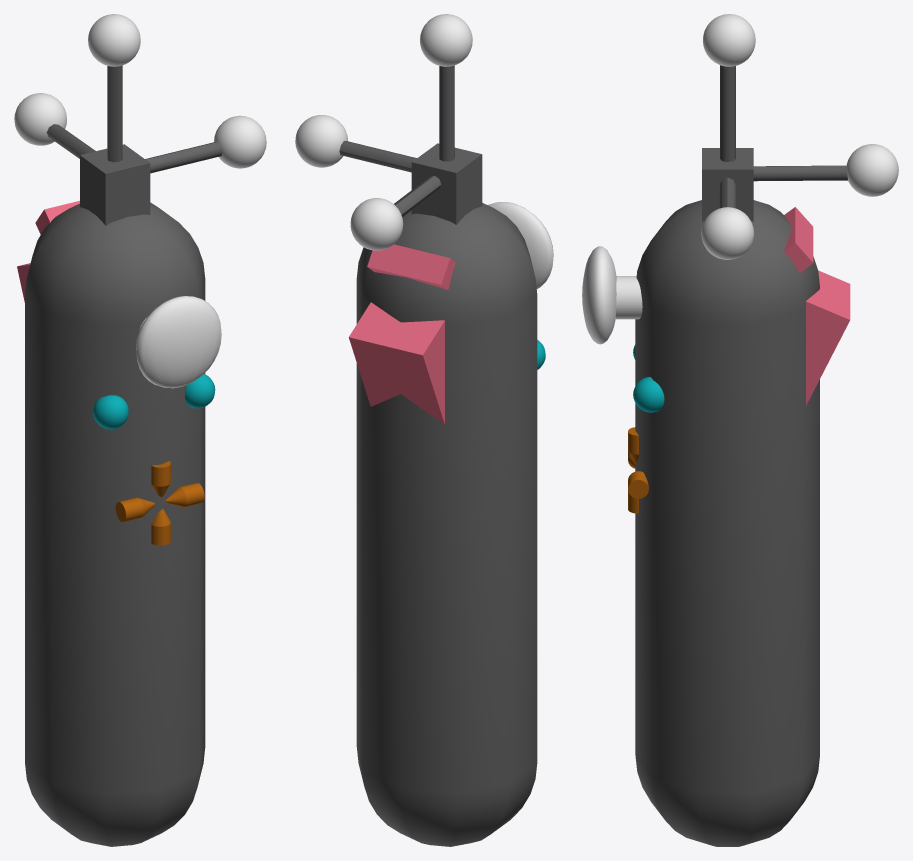
The model's file is wandaid.fbx.
The picture shows the model from 3 angles, left to right: view 1: azimuth 30°, elevation 25°; view 2: azimuth 150°, elevation 25°; view 3: azimuth 270°, elevation 25°; orthographic projection.
Visible parts, largest first — view 1: Capsule, Ball.2, Box.2, Ball.3.2, Ball.3, Ball.3.1, Cylinder.2.2, Cylinder.2, Ball.1, Ball, Cylinder.2.1, Cylinder.1.3; view 2: Capsule, Box, Box.2, Box.1, Ball.3.2, Ball.3.1, Ball.3, Ball.2, Cylinder.2.2, Cylinder.2, Cylinder.2.1; view 3: Capsule, Box, Ball.2, Box.2, Ball.3, Ball.3.2, Ball.3.1, Cylinder.2.2, Cylinder.2.1, Box.1, Cylinder, Ball.
Boxes of the visible parts, box(x1,y1,x2,y2) form: Capsule: box(25, 202, 205, 846); Ball.2: box(136, 296, 221, 388); Box.2: box(80, 144, 150, 225); Ball.3.2: box(88, 14, 140, 66); Ball.3: box(214, 115, 266, 168); Ball.3.1: box(14, 93, 66, 145); Cylinder.2.2: box(107, 65, 122, 162); Cylinder.2: box(145, 142, 222, 173); Ball.1: box(93, 395, 128, 429); Ball: box(185, 374, 215, 408); Cylinder.2.1: box(46, 124, 95, 158); Cylinder.1.3: box(115, 497, 143, 522); Capsule: box(356, 203, 537, 846); Box: box(348, 302, 444, 424); Box.2: box(411, 143, 482, 224); Box.1: box(367, 244, 456, 289); Ball.3.2: box(420, 14, 472, 66); Ball.3.1: box(350, 198, 403, 250); Ball.3: box(295, 115, 347, 167); Ball.2: box(488, 202, 553, 289); Cylinder.2.2: box(439, 65, 454, 161); Cylinder.2: box(339, 141, 416, 172); Cylinder.2.1: box(394, 175, 441, 216); Capsule: box(635, 200, 819, 846); Box: box(805, 270, 850, 405); Ball.2: box(582, 246, 616, 344); Box.2: box(702, 148, 753, 221); Ball.3: box(701, 207, 754, 259); Ball.3.2: box(703, 14, 755, 66); Ball.3.1: box(846, 144, 898, 196); Cylinder.2.2: box(720, 65, 735, 161); Cylinder.2.1: box(753, 165, 847, 181); Box.1: box(783, 207, 813, 273); Cylinder: box(616, 276, 642, 319); Ball: box(633, 377, 664, 412).
Size of the model in its own units: 0.0701 by 0.2459 by 0.0858.
